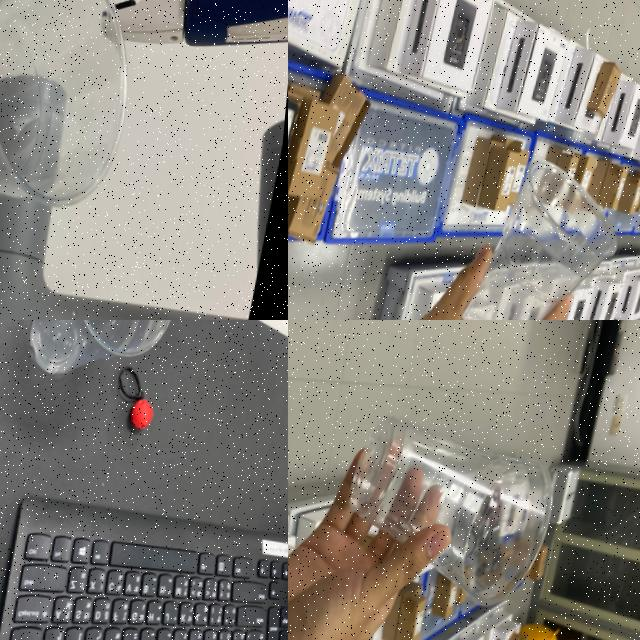glass: (336, 402, 581, 611), (0, 0, 169, 269), (456, 140, 640, 320), (20, 320, 200, 389)
